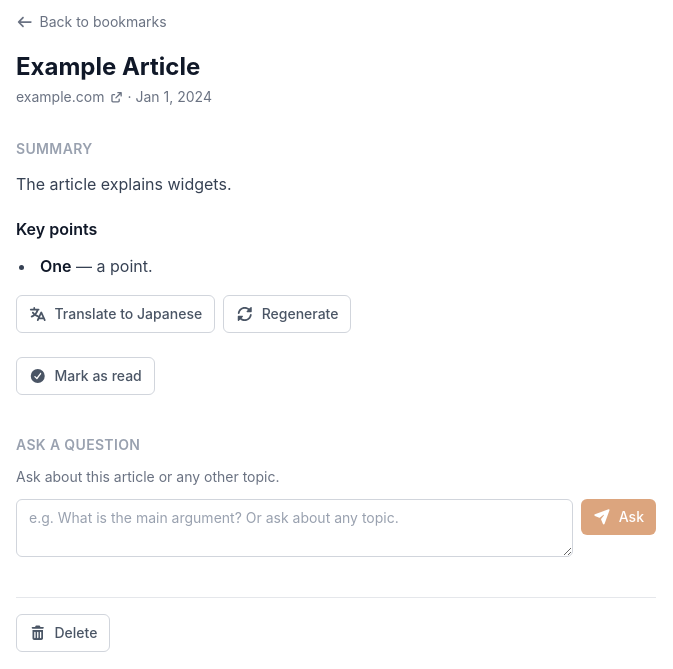
BookmarkPage › translating an English summary › replaces the summary with the translation, marked as Japanese
The image size is (673, 669).
Click the button "Translate to Japanese" at x=116, y=314, box [16,295,215,333]
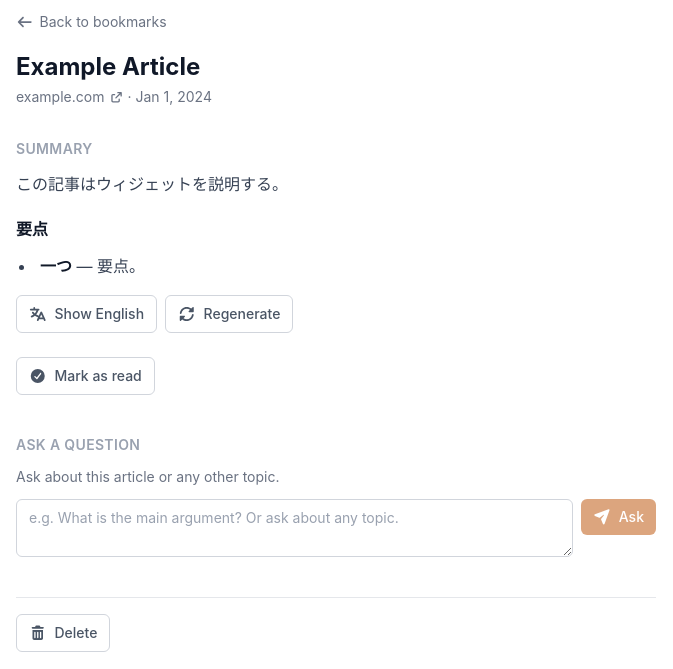
expect the text "The article explains widgets." is gone: met
